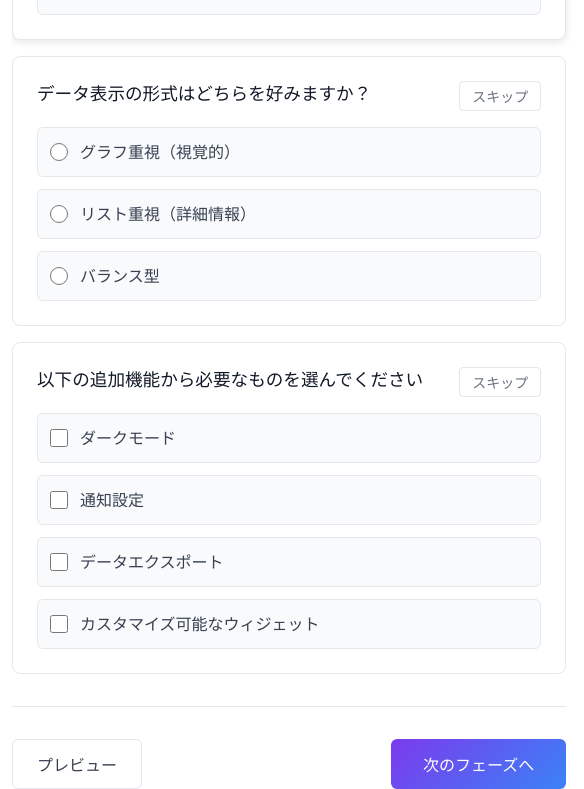
Test: Phase 3: インタラクティブ要件精密化 › リアルタイム仕様更新 › 変更の影響が可視化される
The width and height of the screenshot is (584, 789).
(page scrolled)
What coordinates should you click on to do the following:
click the checkbox labelled "ダークモード"
I would click on:
 (59, 438)
Its box is [50,429,68,447].
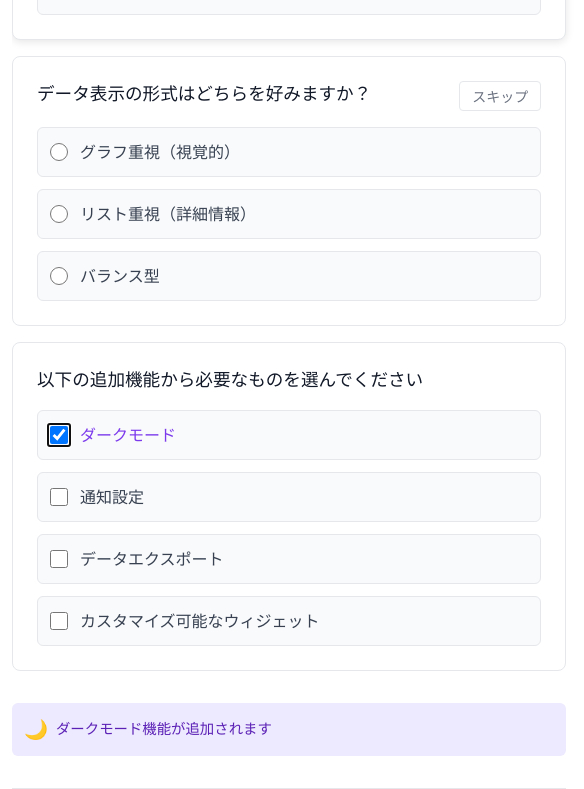
Expected: the element with test id "change-indicator" shows "ダークモード機能が追加されます", [56,720,272,737]
